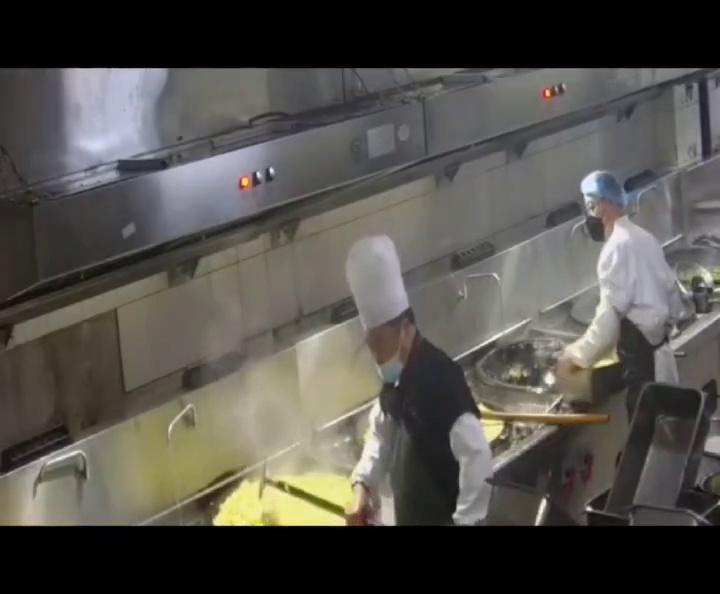mask: (370, 342, 404, 376)
